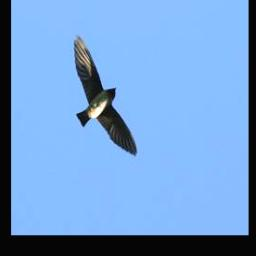Swallow: (71, 34, 134, 159)
